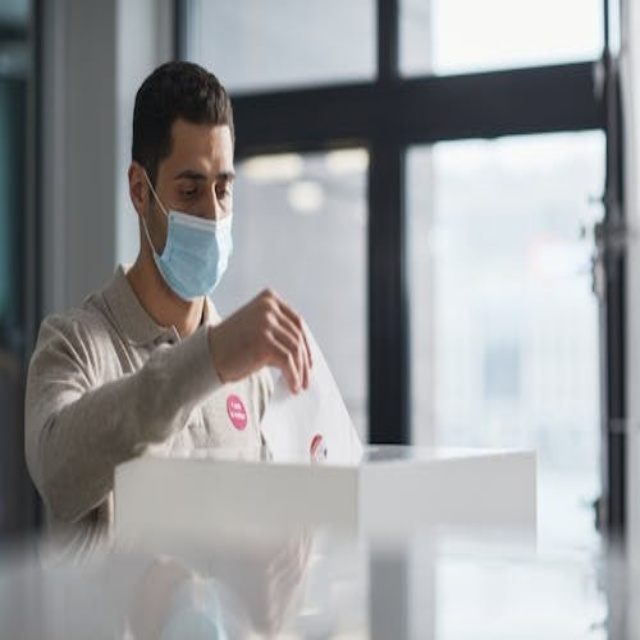Mascara: (143, 169, 233, 300)
Sin_gafas: (164, 161, 230, 202)
Sin_guantes: (207, 279, 319, 392)
